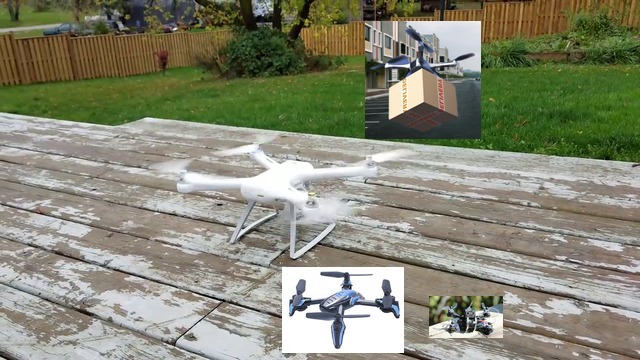drone: (176, 145, 398, 260), (365, 21, 481, 139), (282, 267, 404, 353), (429, 296, 503, 338)
